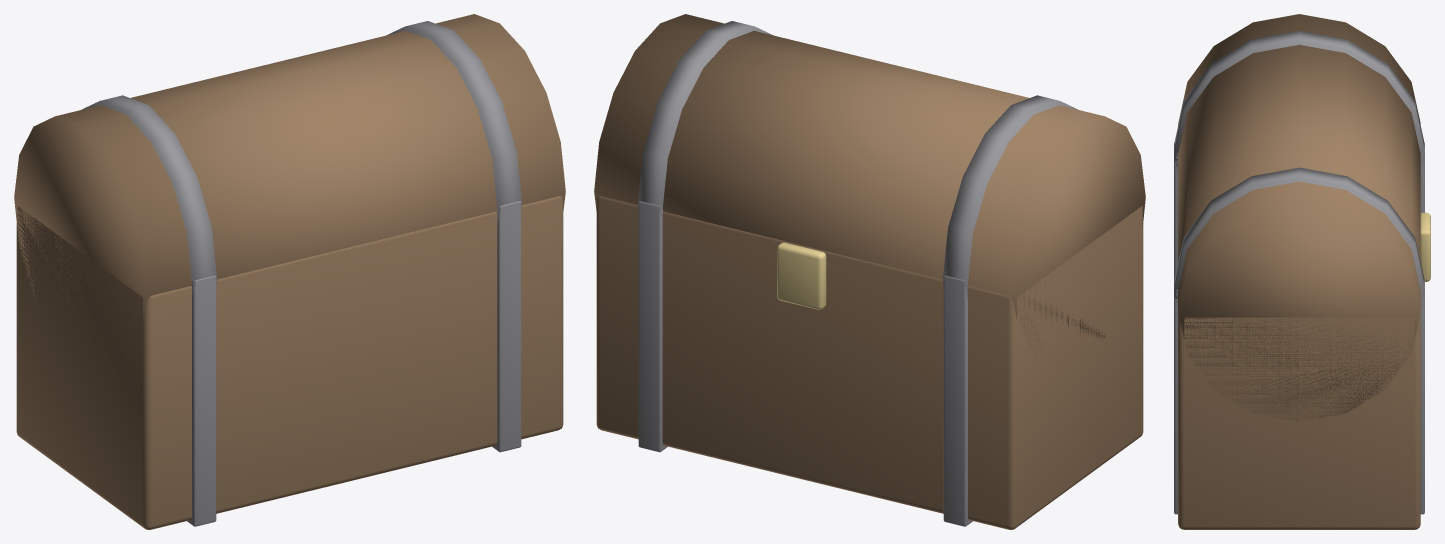
Rendered from Bau.fbx.
3 views of the same model, side by side, from view 1: azimuth 30°, elevation 25°; view 2: azimuth 150°, elevation 25°; view 3: azimuth 270°, elevation 25° (orthographic). The views are drawn at different scales.
Visible parts, largest first — view 1: Bau; view 2: Bau; view 3: Bau.
Boxes of the visible parts, <box> form: Bau: <box>14,14,565,529</box>; Bau: <box>594,14,1145,529</box>; Bau: <box>1174,14,1430,529</box>.
Size of the model in its own units: 1.1 by 0.92 by 0.635.
